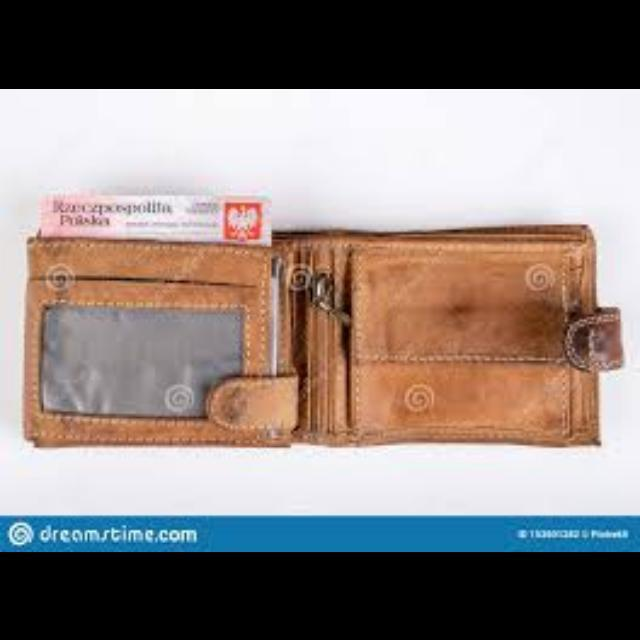wallet: (22, 177, 614, 469)
